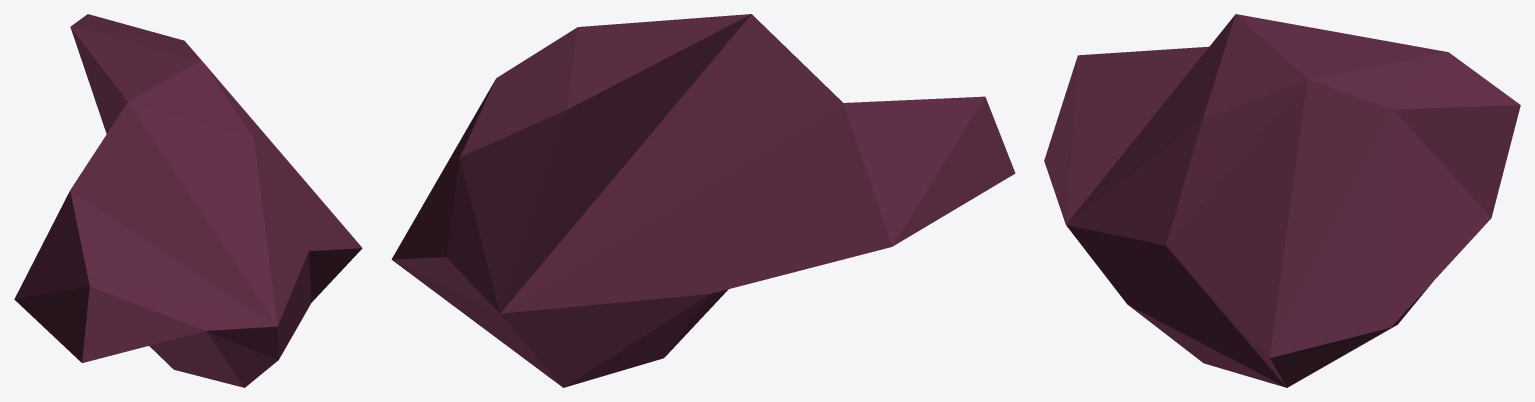
The model's file is Model_10271_LH__Paratenial_nucleus_(PT).obj.
3 renders of one model, left to right at view 1: azimuth 30°, elevation 25°; view 2: azimuth 150°, elevation 25°; view 3: azimuth 270°, elevation 25°, orthographic. The views are drawn at different scales.
Size of the model in its own units: 0.1893 by 0.1405 by 0.2024.
